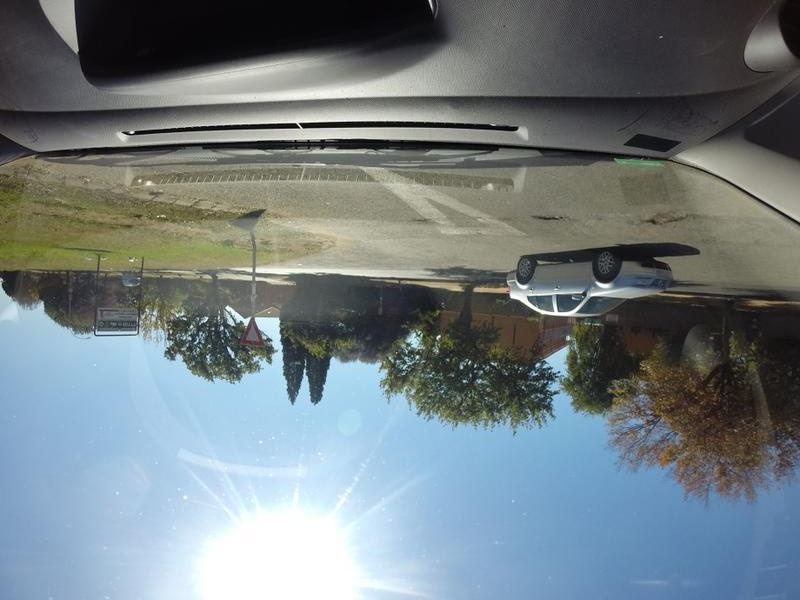pothole: (640, 208, 694, 228), (410, 213, 445, 226), (530, 211, 569, 222)
